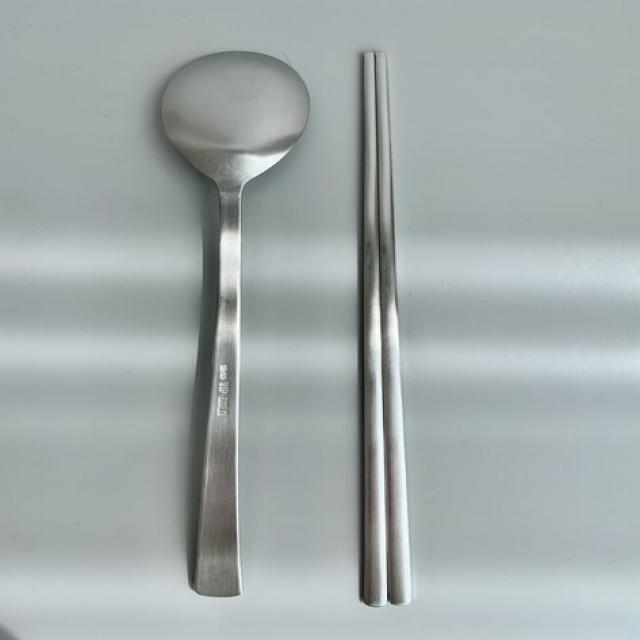spoon: (150, 43, 316, 617)
